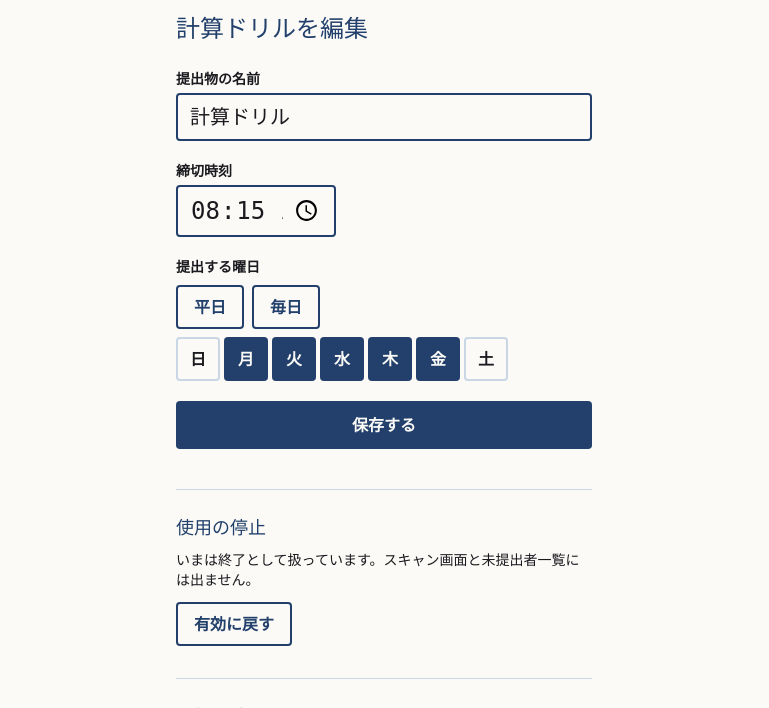
Test: 終了 › 終了済みなら有効に戻せる
Click the button "有効に戻す" at (234, 624), box 176,602 -> 292,646
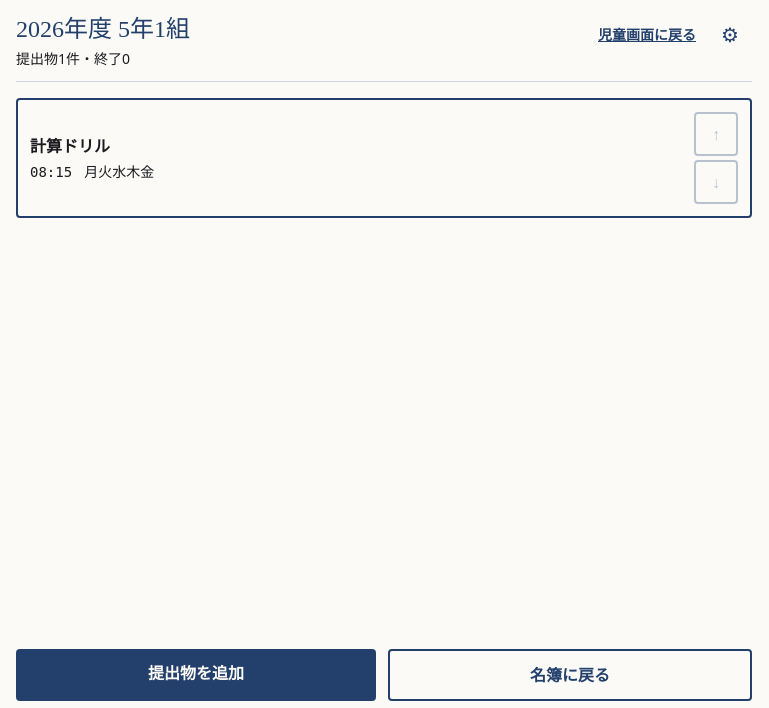
Check: the text "提出物1件・終了0" is shown, box 16,49 -> 130,68
